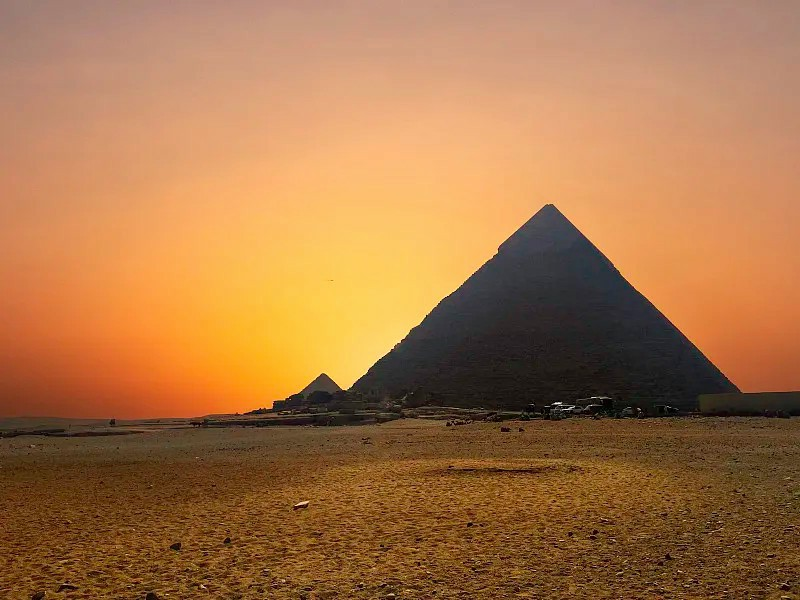Pyramid: (349, 205, 745, 411), (291, 374, 349, 398)
